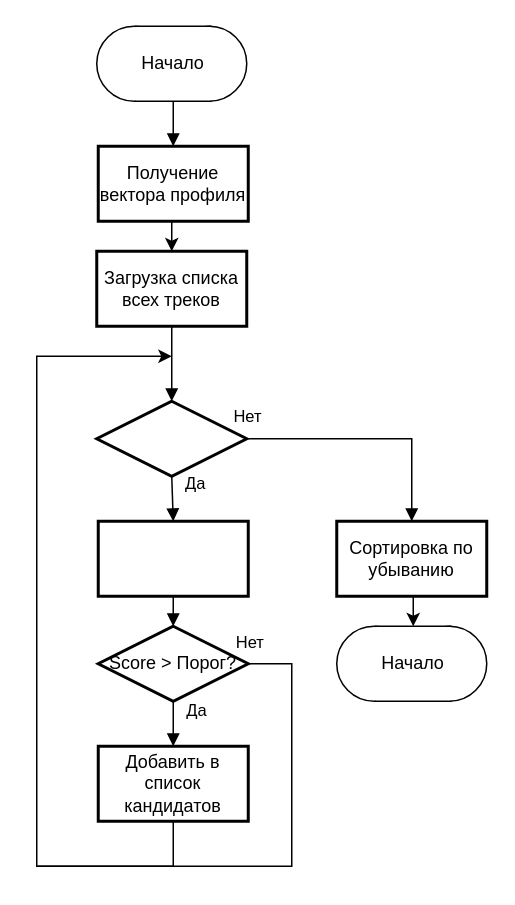
Image size: 515x905. Some labels were removed from this diagram. Here are the shapes that lost their labels. From the top down, the centre of each, then its label:
At point (171, 438): "Есть треки?".
At point (172, 558): "Вычисление косинусного сходства".
